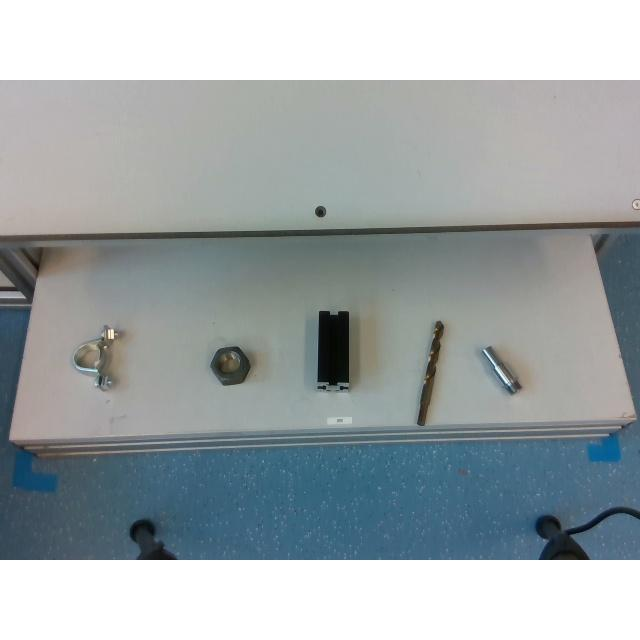Axis2: (481, 344, 523, 396)
Drill: (418, 319, 444, 427)
Housing: (72, 326, 120, 386)
M30: (210, 346, 250, 384)
S40_40_B: (317, 310, 349, 390)
